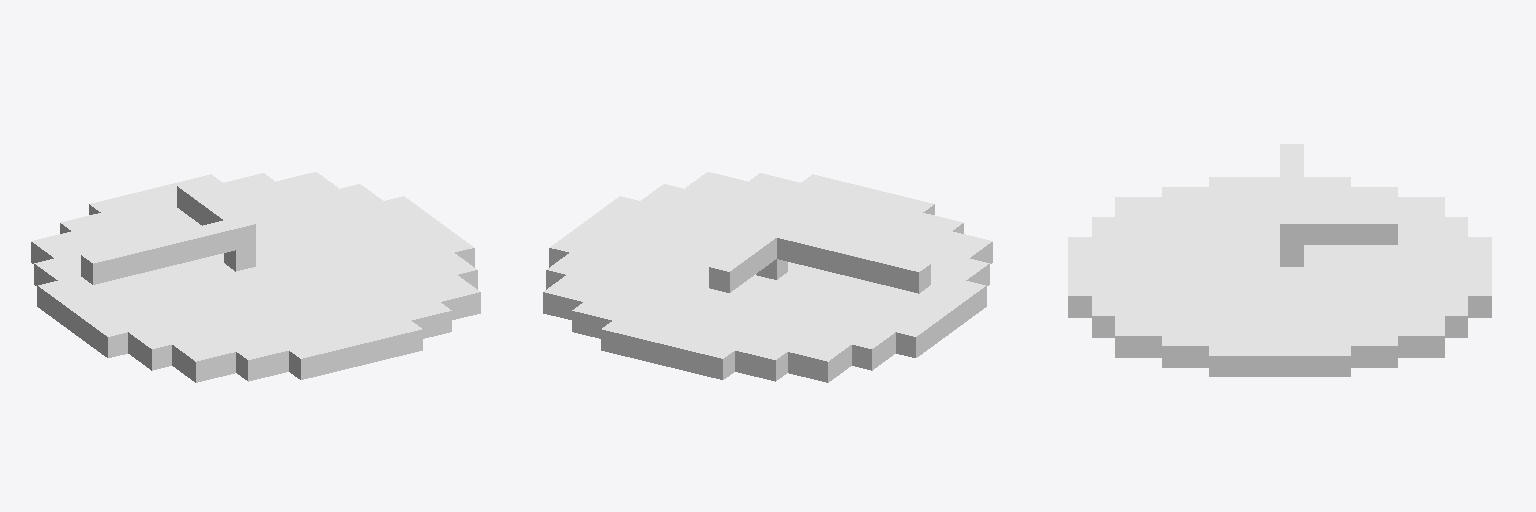
Rendered from Relogio.obj.
3 renders of one model, left to right at view 1: azimuth 30°, elevation 25°; view 2: azimuth 150°, elevation 25°; view 3: azimuth 270°, elevation 25°, orthographic.
Parts seen in each view (by area): view 1: object 1; view 2: object 1; view 3: object 1.
Part boxes in pixels (x1,y1,x2,y2): object 1: (31,172,480,382); object 1: (543,172,992,382); object 1: (1068,144,1491,376).
Size of the model in its own units: 1.8 by 0.3 by 1.8.